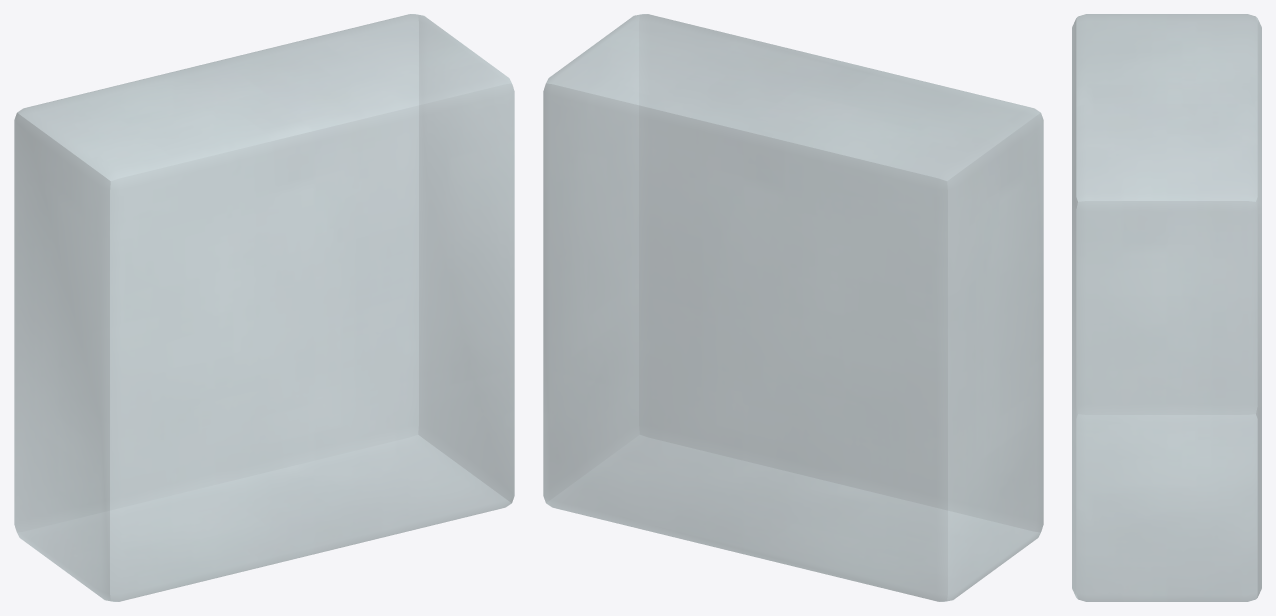
The model's file is ALV-CEL-002_lod1.glb.
3 renders of one model, left to right at view 1: azimuth 30°, elevation 25°; view 2: azimuth 150°, elevation 25°; view 3: azimuth 270°, elevation 25°, orthographic. The views are drawn at different scales.
Parts seen in each view (by area): view 1: ALV-CEL-002_corpo; view 2: ALV-CEL-002_corpo; view 3: ALV-CEL-002_corpo.
Part boxes in pixels (left/top/right/bottom): ALV-CEL-002_corpo: left=14, top=14, right=514, bottom=601; ALV-CEL-002_corpo: left=543, top=14, right=1043, bottom=601; ALV-CEL-002_corpo: left=1072, top=14, right=1261, bottom=601.
Bounding box in the file's own units: 0.19 × 0.19 × 0.08.
1 material, 1 textured.
